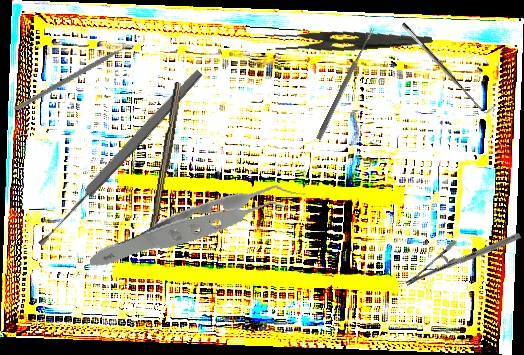Chopper: (13, 9, 142, 149)
Dressing Forceps: (265, 17, 433, 59)
Hook Surgical: (399, 15, 495, 119)
Needle Holder: (403, 196, 523, 323)
Scalpel Handle: (148, 81, 185, 237)
Surgical Spoon: (34, 67, 205, 249), (315, 27, 376, 141)
Tissue Forceps: (88, 150, 309, 309)
